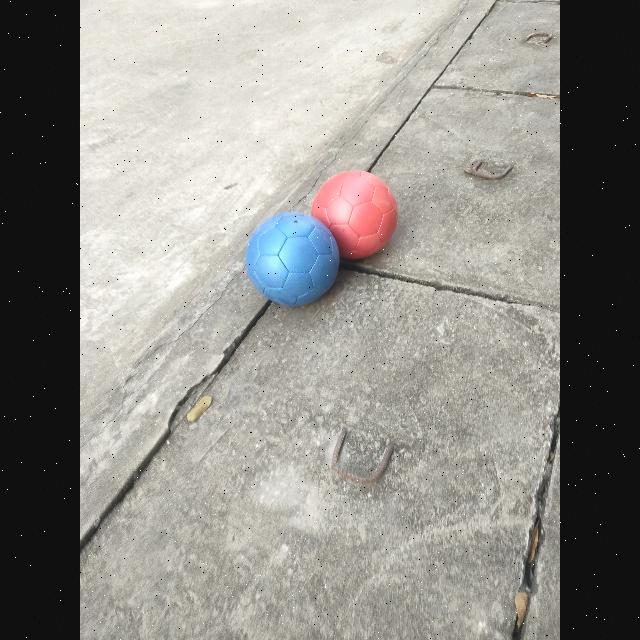B: (246, 212, 340, 306)
R: (312, 170, 398, 260)
